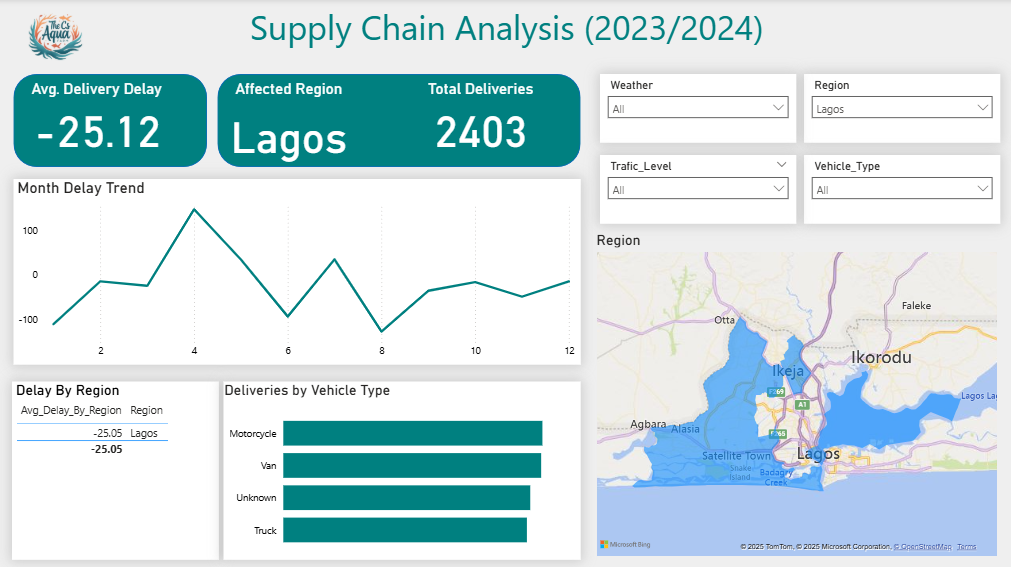

The page's visual inventory and layout, read from the dashboard file:
{"tool":"powerbi","page":{"name":"Page 3","canvas":[1280,720],"ordinal":0},"visuals":[{"type":"shape","box":[20.8,94.5,243.8,117.2],"z":0},{"type":"shape","box":[277.8,94.5,457.3,117.2],"z":1000},{"type":"card","title":"Avg. Delivery Delay","fields":{"Values":["Avg(DeliveryDelay_Prediction_Output.Predicted_Delay_Min)"]},"box":[37.8,102.8,175.7,94.5],"z":2000},{"type":"card","title":"Total Deliveries","fields":{"Values":["CountNonNull(DeliveryDelay_Prediction_Output.Delivery_Status)"]},"box":[521.6,102.8,175.7,94.5],"z":3000},{"type":"card","title":"Affected Region","fields":{"Values":["Min(DeliveryDelay_Prediction_Output.Region)"]},"box":[279.7,102.8,175.7,94.5],"z":4000},{"type":"lineChart","title":"Month Delay Trend","fields":{"Y":["Avg(DeliveryDelay_Prediction_Output.Delay_Min)"],"Category":["DeliveryDelay_Prediction_Output.Date_month"]},"box":[20.8,226.8,714.3,234.3],"z":5000},{"type":"tableEx","title":"Delay By Region","fields":{"Values":["DeliveryDelay_Prediction_Output.Avg_Delay_By_Region","DeliveryDelay_Prediction_Output.Region"]},"box":[18.9,481.9,260.8,224.9],"z":6000},{"type":"barChart","title":"Deliveries by Vehicle Type","fields":{"Category":["DeliveryDelay_Prediction_Output.Vehicle_Type"],"Y":["CountNonNull(DeliveryDelay_Prediction_Output.Payment_Status)"]},"box":[285.4,481.9,449.8,224.9],"z":7000},{"type":"filledMap","fields":{"Category":["DeliveryDelay_Prediction_Output.Region"]},"box":[750.2,292.9,514,413.9],"z":8000},{"type":"slicer","fields":{"Values":["DeliveryDelay_Prediction_Output.Region"]},"box":[1016.7,94.5,247.6,86.9],"z":9000},{"type":"slicer","fields":{"Values":["DeliveryDelay_Prediction_Output.Weather"]},"box":[759.7,94.5,247,86.9],"z":11000},{"type":"slicer","fields":{"Values":["DeliveryDelay_Prediction_Output.Vehicle_Type"]},"box":[1016.7,196.5,247.6,86.9],"z":12000},{"type":"slicer","fields":{"Values":["DeliveryDelay_Prediction_Output.Trafic_Level"]},"box":[759.7,196.5,247.6,86.9],"z":13000},{"type":"textbox","box":[313.7,0,782.4,68],"z":14000},{"type":"image","box":[20.8,0,105.8,94.5],"z":15000}]}

Visuals, with their boxes in screenshot pixels (x1, y1, x2, y2), scaled from the page's 1280x720 canvas onto the 1011x567 screenshot:
shape: bbox(16, 74, 209, 167)
shape: bbox(219, 74, 581, 167)
"Avg. Delivery Delay" card: bbox(30, 81, 169, 155)
"Total Deliveries" card: bbox(412, 81, 551, 155)
"Affected Region" card: bbox(221, 81, 360, 155)
"Month Delay Trend" lineChart: bbox(16, 179, 581, 363)
"Delay By Region" tableEx: bbox(15, 379, 221, 557)
"Deliveries by Vehicle Type" barChart: bbox(225, 379, 581, 557)
filledMap - DeliveryDelay_Prediction_Output.Region: bbox(593, 231, 999, 557)
slicer - DeliveryDelay_Prediction_Output.Region: bbox(803, 74, 999, 143)
slicer - DeliveryDelay_Prediction_Output.Weather: bbox(600, 74, 795, 143)
slicer - DeliveryDelay_Prediction_Output.Vehicle_Type: bbox(803, 155, 999, 223)
slicer - DeliveryDelay_Prediction_Output.Trafic_Level: bbox(600, 155, 796, 223)
textbox: bbox(248, 0, 866, 54)
image: bbox(16, 0, 100, 74)
